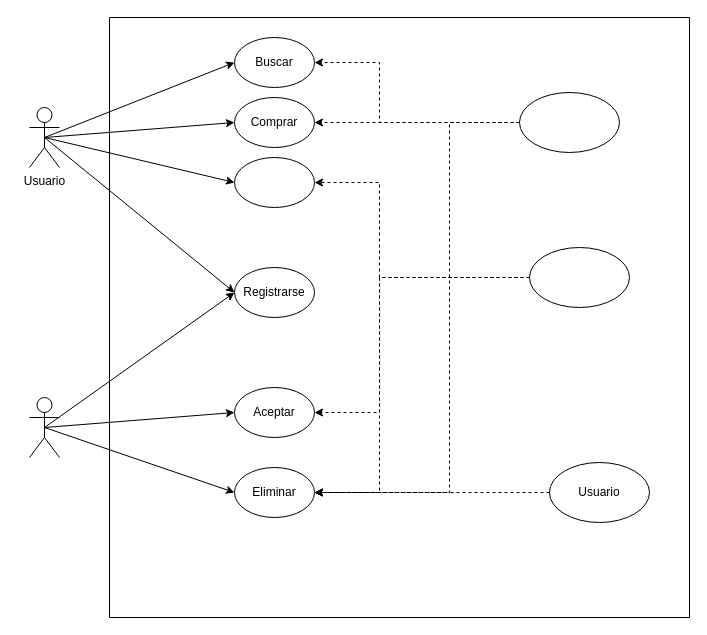
Image size: 707x635. Some labels were removed from this diagram. The centre of each missing label's shape, as x and y in pixels:
"Devolucion" goes at pixel 579 277.
"Empleado" goes at pixel 44 427.
"Libro" goes at pixel 569 122.
"Solicitar" goes at pixel 274 182.
